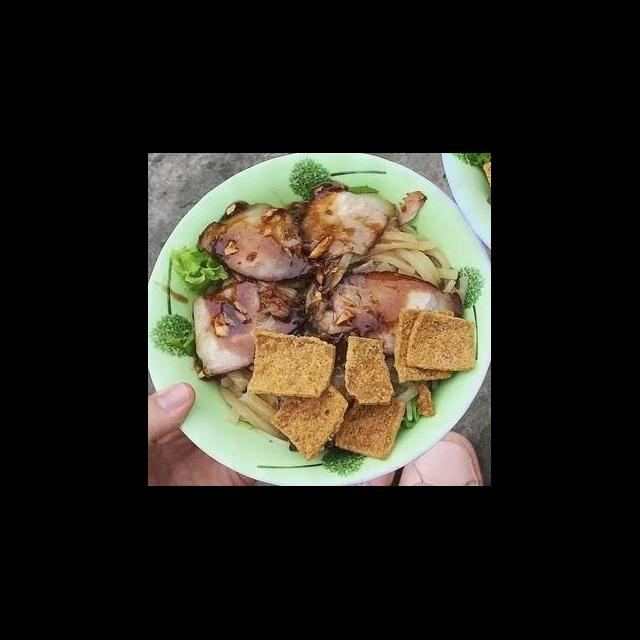banh da: (268, 378, 352, 462), (245, 328, 338, 400), (331, 394, 408, 464), (389, 306, 456, 386), (404, 308, 478, 376), (344, 334, 396, 408)
mi: (348, 216, 472, 300), (216, 362, 292, 442)
mi quang: (149, 174, 492, 486)
thit heo: (302, 268, 466, 362), (188, 274, 314, 379), (194, 198, 324, 288), (298, 180, 400, 292)
